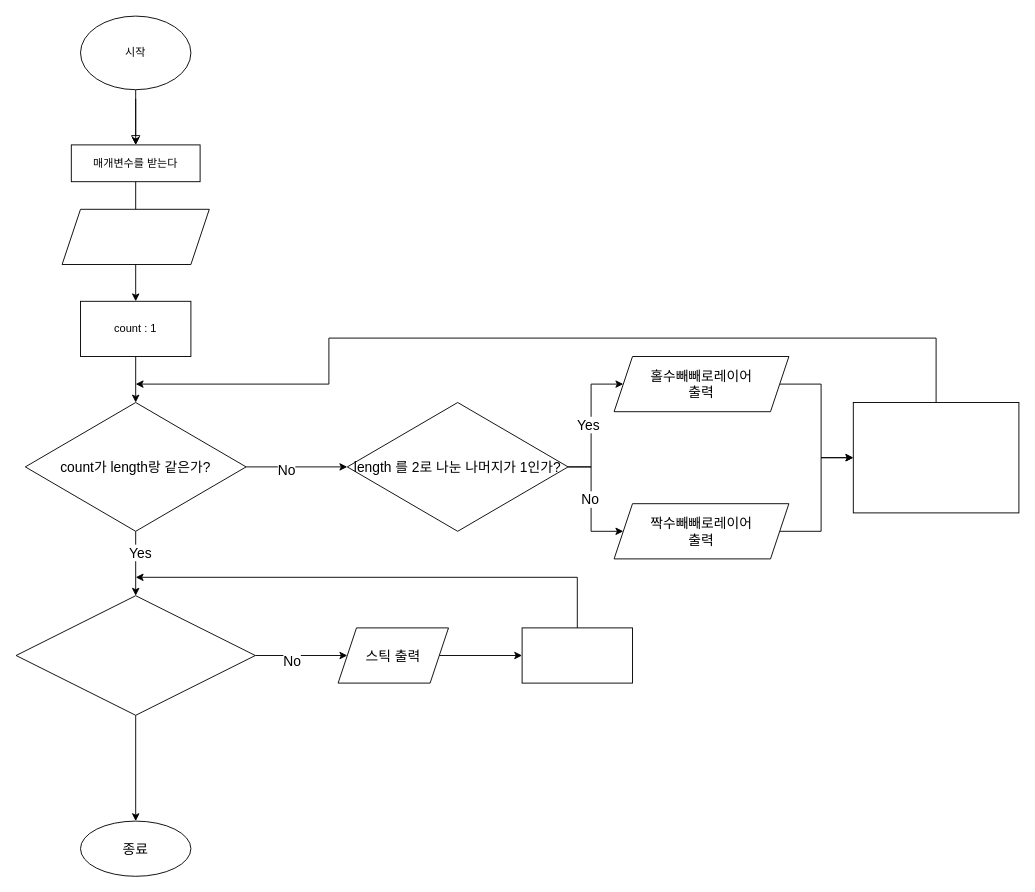
Image size: 1035x892. Some labels were removed from this diagram. The shapes that lost their labels are listed below. From the top down, each one's centre as x and y in pixels, then its label:
At pixel 135 236: "빼빼로 정보 출력".
At pixel 935 457: "count에 1을 더한다.".
At pixel 135 655: "Stick의 길이가 충족되었는가".
At pixel 576 655: "반복, 1 증가".
